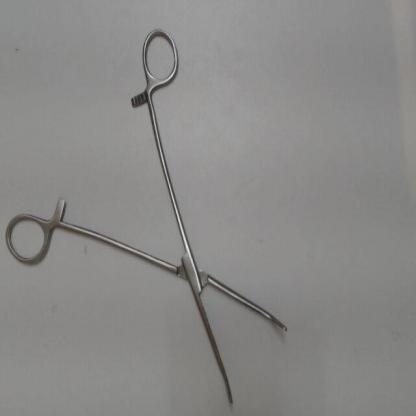Lahey Forceps: (3, 19, 299, 409)
